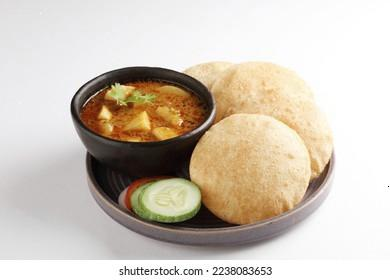puri: (217, 62, 337, 220)
